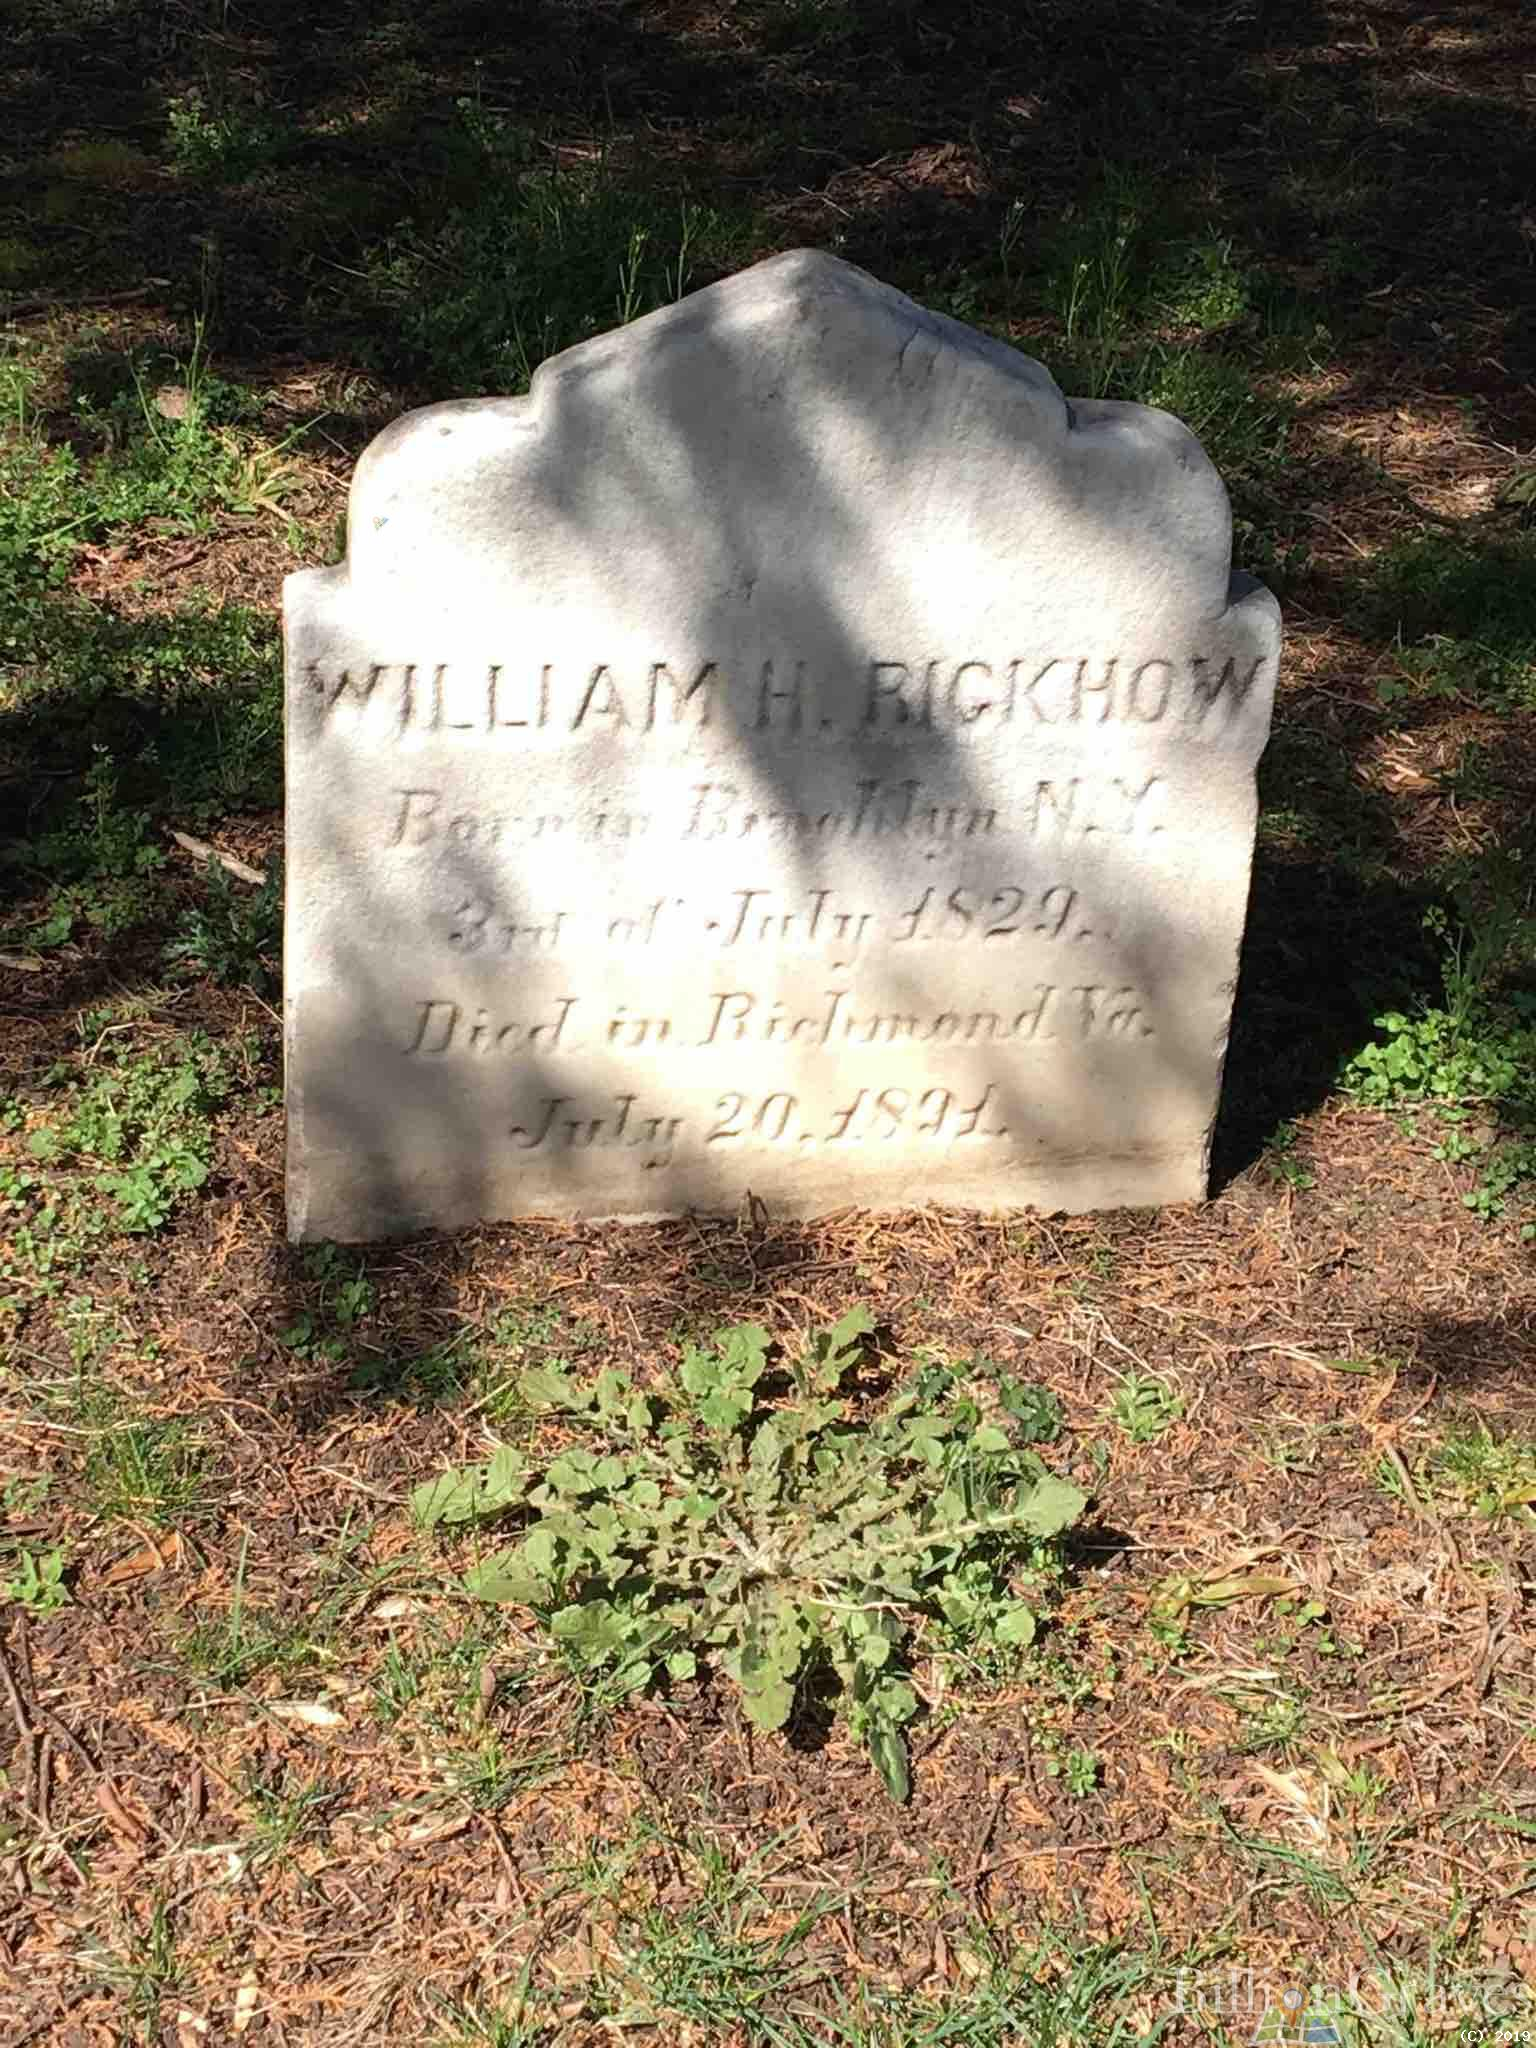upright: (273, 260, 1279, 1242)
